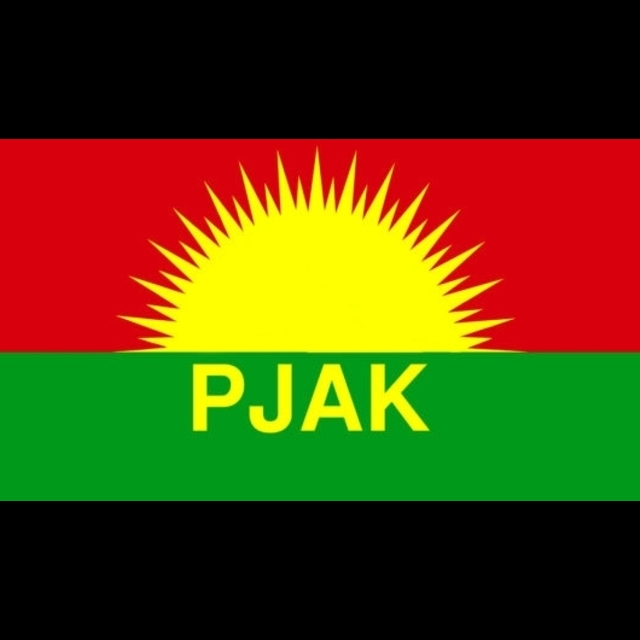PJAK: (108, 146, 528, 454)
